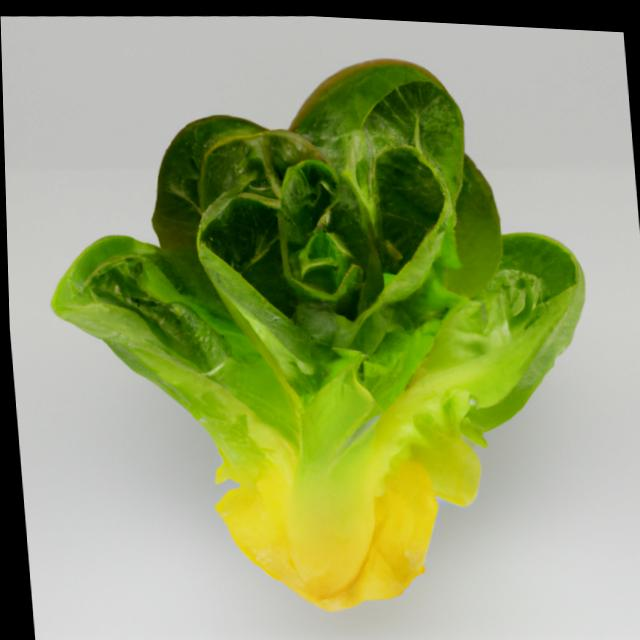-N: (24, 19, 621, 640)
